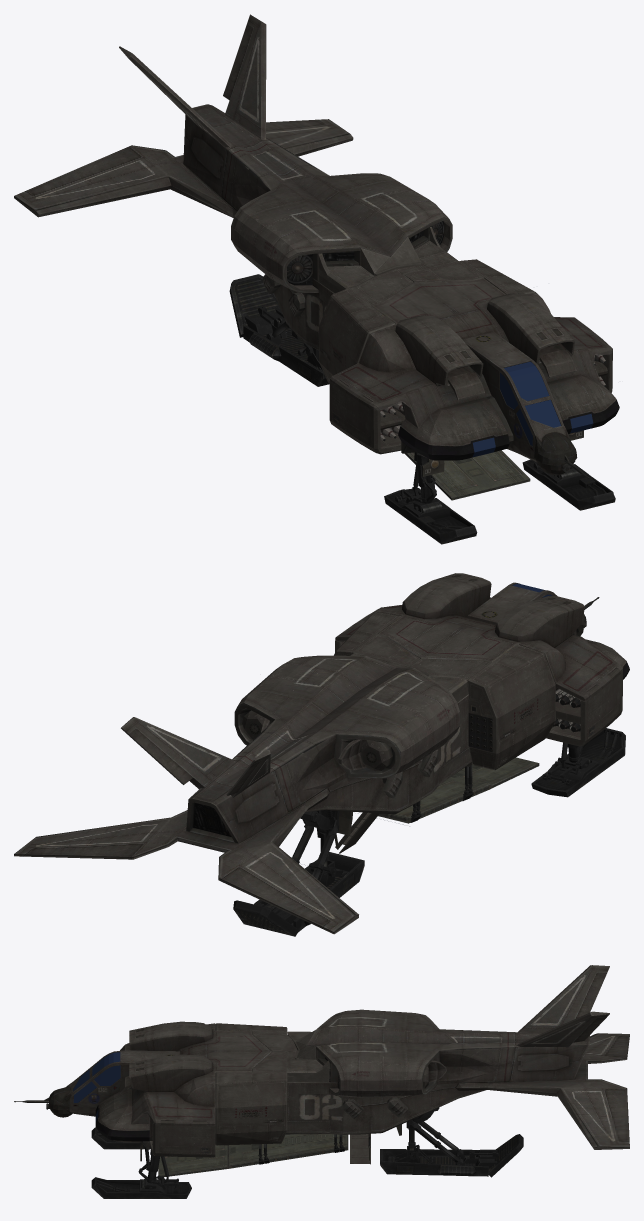
Rendered from Dropship1.obj.
3 views of the same model, one above another, from view 1: azimuth 30°, elevation 25°; view 2: azimuth 150°, elevation 25°; view 3: azimuth 270°, elevation 25° (orthographic). The views are drawn at different scales.
Visible parts, largest first — view 1: Dropship; view 2: Dropship; view 3: Dropship.
Boxes of the visible parts, <box> form: Dropship: <box>14,14,619,544</box>; Dropship: <box>14,573,629,936</box>; Dropship: <box>14,965,629,1198</box>.
Bounding box in the file's own units: 38.2 × 28.31 × 87.78.
Materials: 7 (6 with a texture image).
